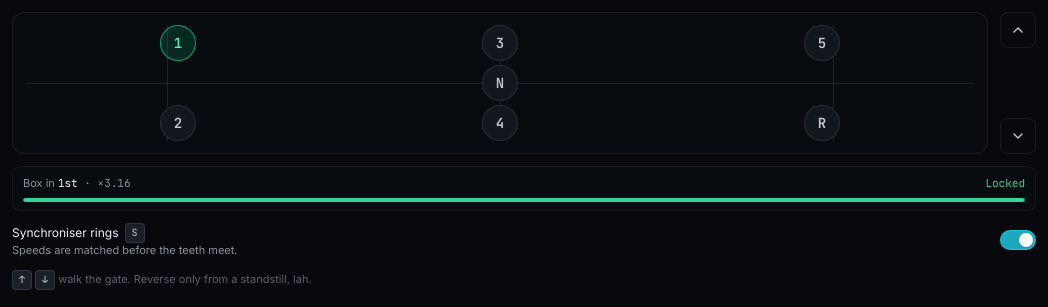
it: GearSelector › walks the gate with the shift buttons and toggles the synchro
This screenshot has width=1048, height=307.
Click the button named "shift up". click: [1018, 30]
box: [1000,12,1036,48]
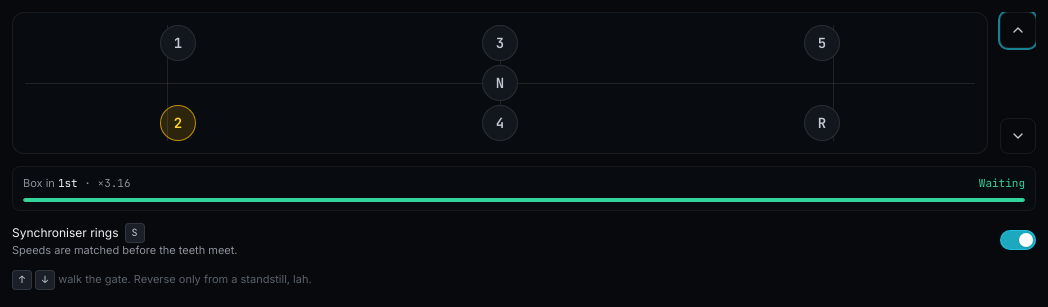
Result: the radio button named "2nd" is checked at [160,105,196,141]
Click the button named "shift down". click: [1018, 136]
box: [1000,118,1036,154]
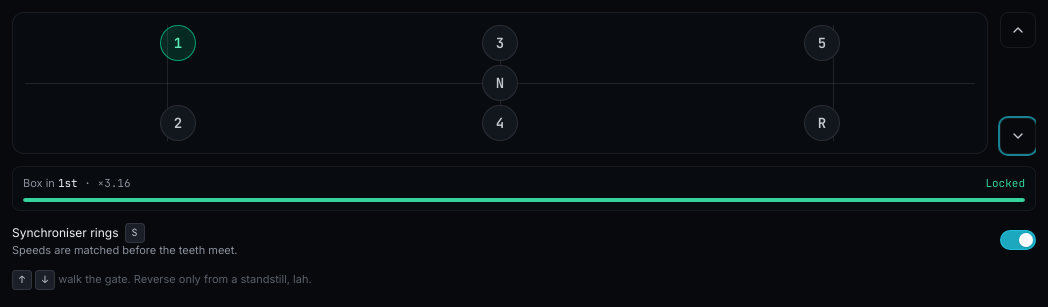
Click the button named "shift down". click: [1018, 136]
box: [1000,118,1036,154]
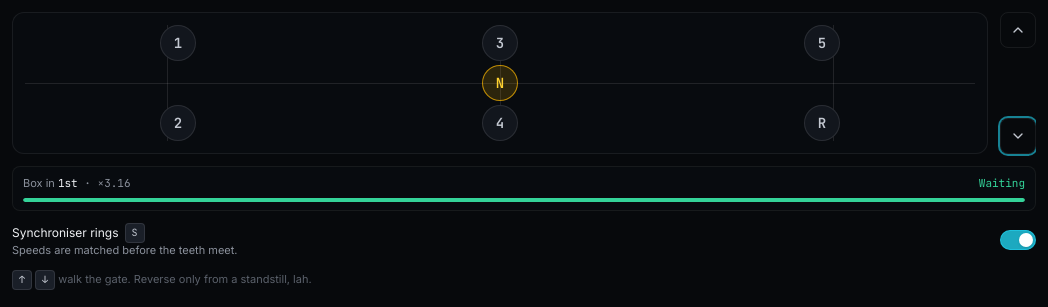
Result: the radio button named "Neutral" is checked at [482,65,518,101]
Click the switch. click: [1018, 240]
box: [1000,230,1036,250]
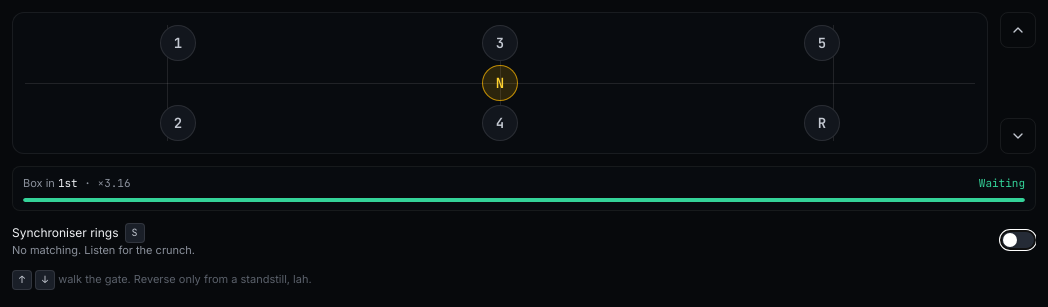
Result: the text "No matching. Listen for the crunch." is shown at [12,242,195,258]
